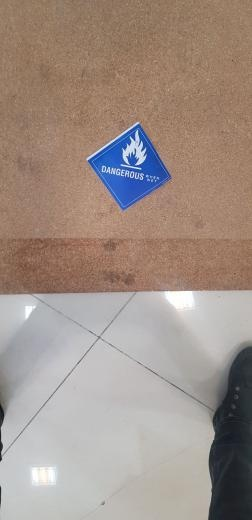Dangerous when wet: (86, 122, 171, 210)
